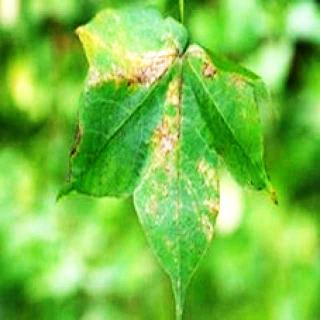grey mildew: (69, 12, 281, 278)
